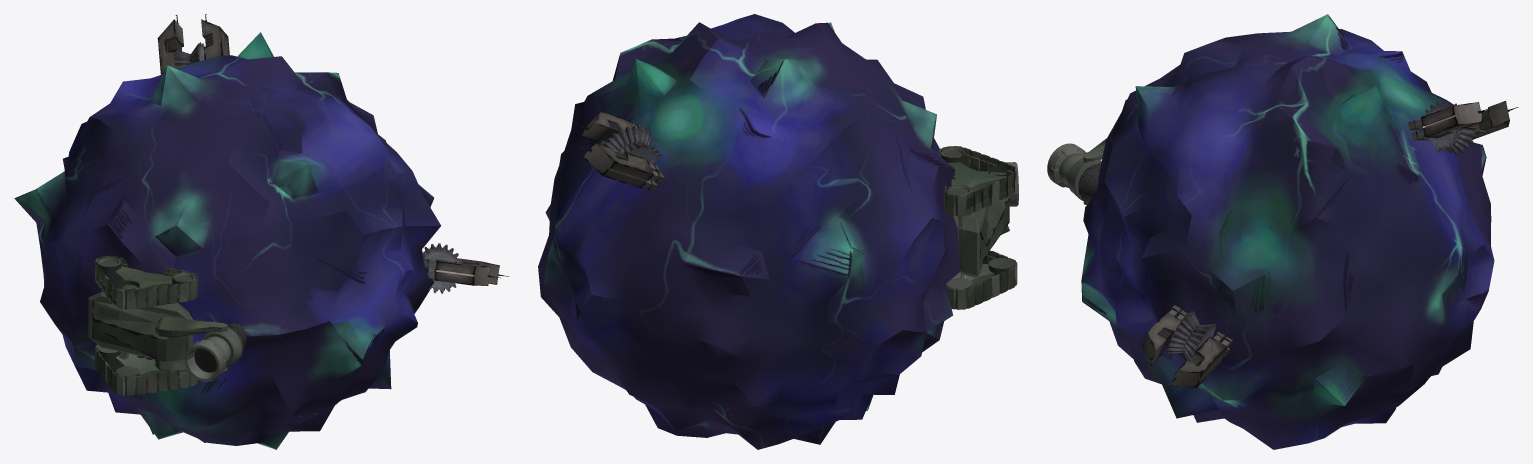
File: planet_Crystal_surface_iteration_2.gltf
3 views of the same model, side by side, from view 1: azimuth 30°, elevation 25°; view 2: azimuth 150°, elevation 25°; view 3: azimuth 270°, elevation 25° (orthographic). The views are drawn at different scales.
Visible parts, largest first — view 1: planet_crystal_factory.001; view 2: planet_crystal_factory.001; view 3: planet_crystal_factory.001.
Boxes of the visible parts, <box> form: planet_crystal_factory.001: <box>14,14,509,449</box>; planet_crystal_factory.001: <box>538,14,1018,449</box>; planet_crystal_factory.001: <box>1047,14,1518,449</box>.
Size of the model in its own units: 13.01 by 11.15 by 12.57.
5 materials, 5 textured.
